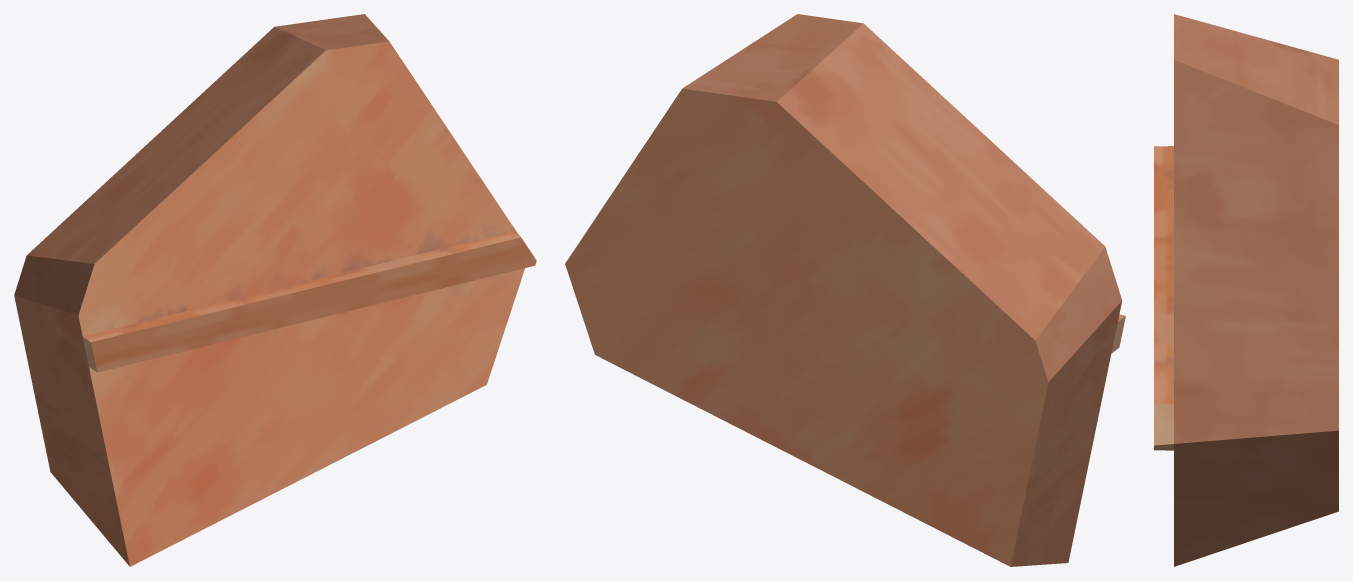
The model's file is wall2_upper_s07.fbx.
The picture shows the model from 3 angles, left to right: view 1: azimuth 30°, elevation 25°; view 2: azimuth 150°, elevation 25°; view 3: azimuth 270°, elevation 25°; orthographic projection. The views are drawn at different scales.
Parts seen in each view (by area): view 1: wall2_upper_s07; view 2: wall2_upper_s07; view 3: wall2_upper_s07.
Boxes of the visible parts, left/top/right/bottom form: wall2_upper_s07: left=14, top=14, right=536, bottom=566; wall2_upper_s07: left=565, top=14, right=1125, bottom=566; wall2_upper_s07: left=1154, top=14, right=1338, bottom=566.
Bounding box in the file's own units: 3.99 × 3.83 × 1.12.
